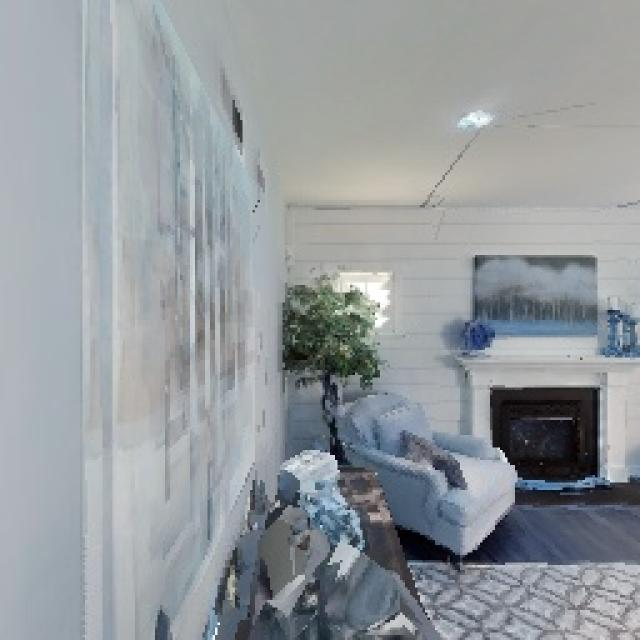sofa: (320, 367, 540, 589)
